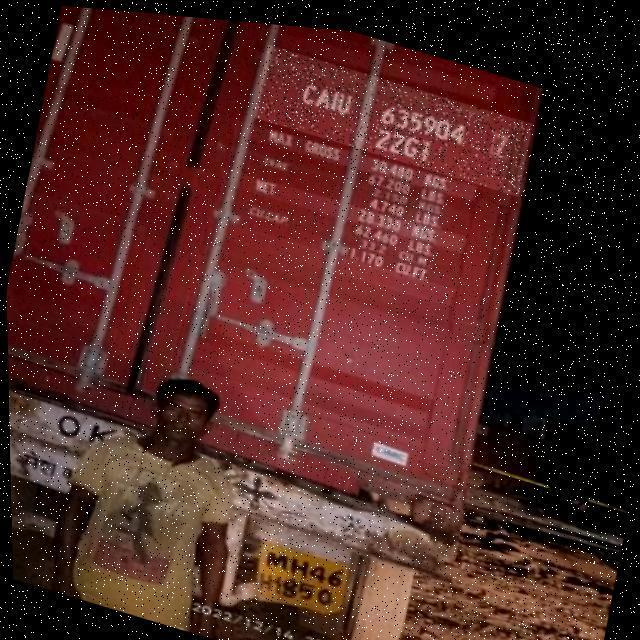container_number_h: (252, 38, 533, 188)
